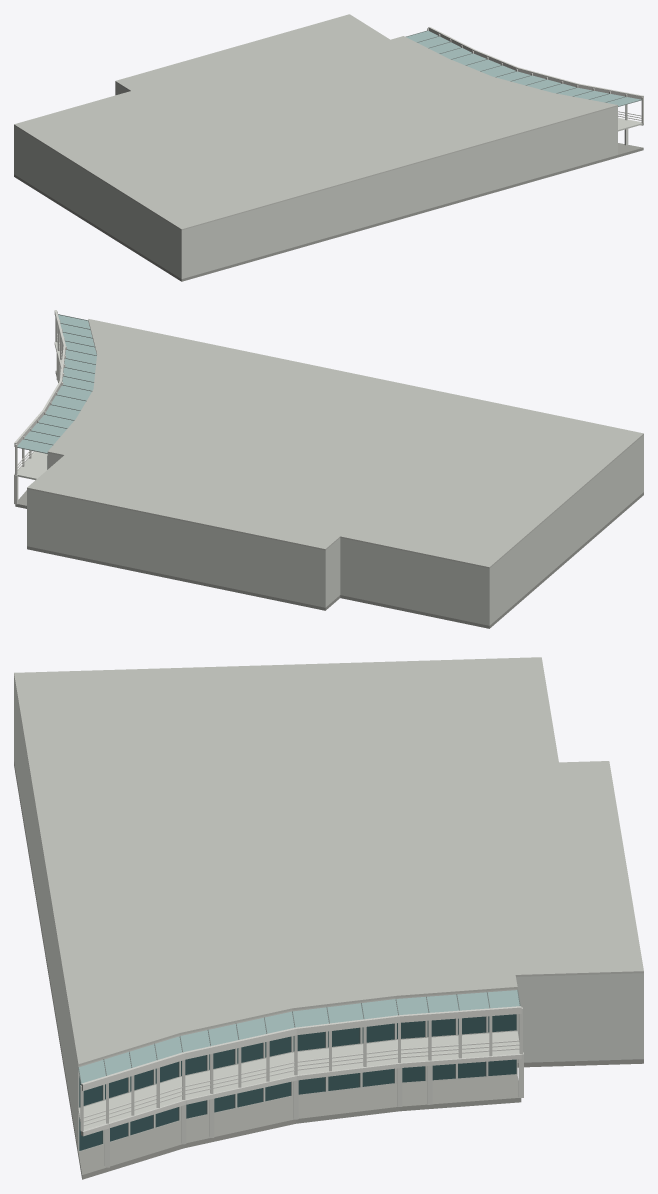
File: SEU_juyuan_canteen_v07.glb
The picture shows the model from 3 angles, top to bottom: view 1: azimuth 30°, elevation 25°; view 2: azimuth 150°, elevation 25°; view 3: azimuth 270°, elevation 25°; orthographic projection. The views are drawn at different scales.
Parts seen in each view (by area): view 1: SEU_B_OSMWAY_299961611_V07__roof, SEU_B_OSMWAY_299961611_V07__main_body, SEU_B_OSMWAY_299961611_V07__gallery_canopy, SEU_B_OSMWAY_299961611_V07__ground_podium, SEU_B_OSMWAY_299961611_V07__curved_upper_beam, SEU_B_OSMWAY_299961611_V07__canopy_frames; view 2: SEU_B_OSMWAY_299961611_V07__roof, SEU_B_OSMWAY_299961611_V07__main_body, SEU_B_OSMWAY_299961611_V07__gallery_canopy, SEU_B_OSMWAY_299961611_V07__ground_podium, SEU_B_OSMWAY_299961611_V07__canopy_frames, SEU_B_OSMWAY_299961611_V07__gallery_deck, SEU_B_OSMWAY_299961611_V07__curved_upper_beam; view 3: SEU_B_OSMWAY_299961611_V07__roof, SEU_B_OSMWAY_299961611_V07__main_body, SEU_B_OSMWAY_299961611_V07__ground_podium, SEU_B_OSMWAY_299961611_V07__front_glazing, SEU_B_OSMWAY_299961611_V07__gallery_deck, SEU_B_OSMWAY_299961611_V07__gallery_canopy, SEU_B_OSMWAY_299961611_V07__curved_upper_beam, SEU_B_OSMWAY_299961611_V07__curved_storey_beam, SEU_B_OSMWAY_299961611_V07__gallery_rails, SEU_B_OSMWAY_299961611_V07__upper_colonnade, SEU_B_OSMWAY_299961611_V07__lower_colonnade, SEU_B_OSMWAY_299961611_V07__front_steps.
Part boxes in pixels (left/top/right/bottom): SEU_B_OSMWAY_299961611_V07__roof: left=14, top=14, right=617, bottom=230; SEU_B_OSMWAY_299961611_V07__main_body: left=14, top=82, right=617, bottom=278; SEU_B_OSMWAY_299961611_V07__gallery_canopy: left=406, top=31, right=640, bottom=106; SEU_B_OSMWAY_299961611_V07__ground_podium: left=14, top=143, right=643, bottom=281; SEU_B_OSMWAY_299961611_V07__curved_upper_beam: left=428, top=27, right=643, bottom=99; SEU_B_OSMWAY_299961611_V07__canopy_frames: left=405, top=30, right=641, bottom=106; SEU_B_OSMWAY_299961611_V07__roof: left=27, top=319, right=643, bottom=568; SEU_B_OSMWAY_299961611_V07__main_body: left=27, top=321, right=643, bottom=625; SEU_B_OSMWAY_299961611_V07__gallery_canopy: left=17, top=315, right=96, bottom=453; SEU_B_OSMWAY_299961611_V07__ground_podium: left=15, top=370, right=643, bottom=628; SEU_B_OSMWAY_299961611_V07__canopy_frames: left=17, top=314, right=96, bottom=453; SEU_B_OSMWAY_299961611_V07__gallery_deck: left=17, top=342, right=61, bottom=479; SEU_B_OSMWAY_299961611_V07__curved_upper_beam: left=14, top=310, right=65, bottom=446; SEU_B_OSMWAY_299961611_V07__roof: left=14, top=657, right=643, bottom=1066; SEU_B_OSMWAY_299961611_V07__main_body: left=14, top=676, right=643, bottom=1152; SEU_B_OSMWAY_299961611_V07__ground_podium: left=14, top=762, right=643, bottom=1179; SEU_B_OSMWAY_299961611_V07__front_glazing: left=79, top=1014, right=516, bottom=1150; SEU_B_OSMWAY_299961611_V07__gallery_deck: left=78, top=1031, right=519, bottom=1130; SEU_B_OSMWAY_299961611_V07__gallery_canopy: left=79, top=990, right=519, bottom=1083; SEU_B_OSMWAY_299961611_V07__curved_upper_beam: left=81, top=1006, right=521, bottom=1090; SEU_B_OSMWAY_299961611_V07__curved_storey_beam: left=81, top=1053, right=521, bottom=1136; SEU_B_OSMWAY_299961611_V07__gallery_rails: left=83, top=1040, right=519, bottom=1125; SEU_B_OSMWAY_299961611_V07__upper_colonnade: left=80, top=1007, right=522, bottom=1131; SEU_B_OSMWAY_299961611_V07__lower_colonnade: left=104, top=1052, right=523, bottom=1167; SEU_B_OSMWAY_299961611_V07__front_steps: left=81, top=1088, right=518, bottom=1176.
Size of the model in its own units: 93.95 by 9.72 by 58.09.
